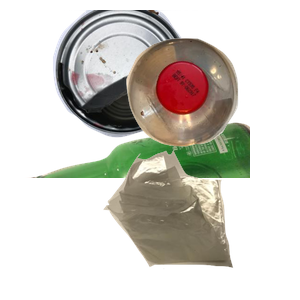glass: (23, 120, 263, 300)
metal: (50, 10, 262, 140)
plastic: (124, 36, 300, 175)
trash: (101, 148, 300, 300)
